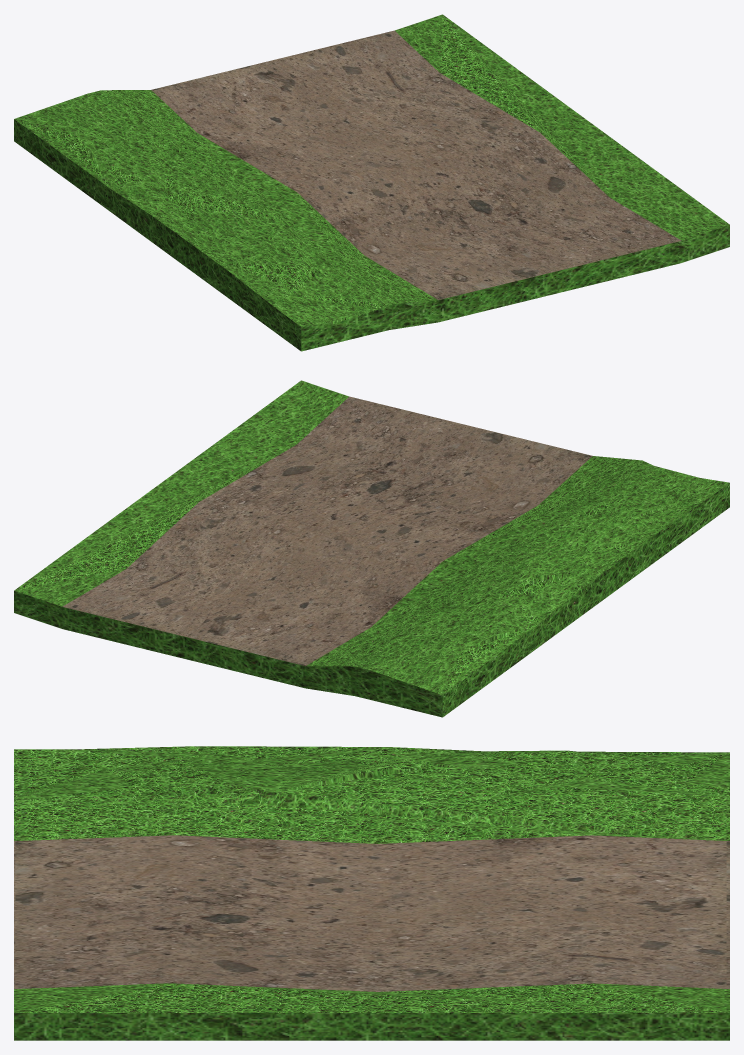
File: newground2.fbx
The picture shows the model from 3 angles, top to bottom: view 1: azimuth 30°, elevation 25°; view 2: azimuth 150°, elevation 25°; view 3: azimuth 270°, elevation 25°; orthographic projection. The views are drawn at different scales.
Visible parts, largest first — view 1: pCube3; view 2: pCube3; view 3: pCube3.
Boxes of the visible parts, left/top/right/bottom form: pCube3: left=14, top=14, right=729, bottom=351; pCube3: left=14, top=380, right=729, bottom=717; pCube3: left=14, top=746, right=729, bottom=1040.
Bounding box in the file's own units: 20.17 × 1.85 × 23.41.
Materials: 2 (2 with a texture image).
